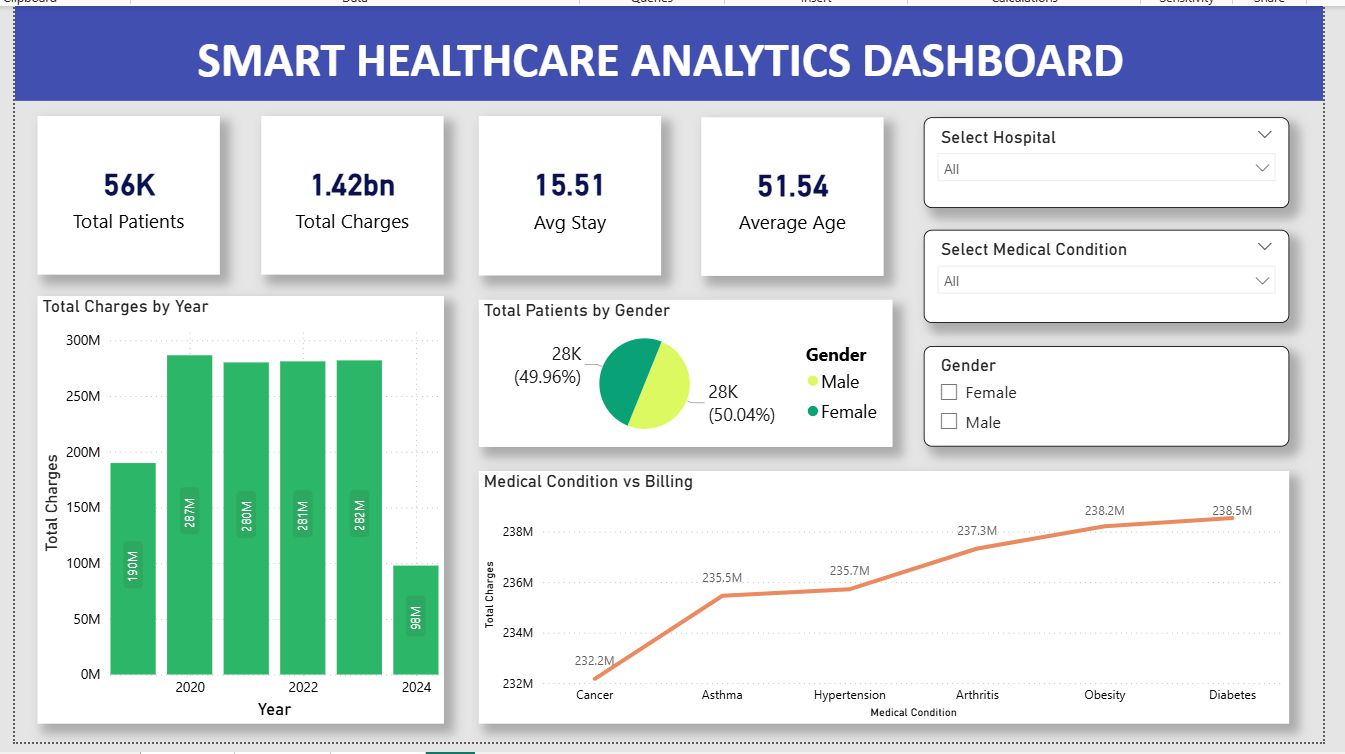

What the dashboard file says about the page in this screenshot:
{"tool":"powerbi","page":{"name":"Page 1","canvas":[1280,720],"ordinal":0},"visuals":[{"type":"textbox","box":[0,0,1280,92.9],"z":0},{"type":"card","fields":{"Values":["healthcare_dataset.Total Patients"]},"box":[22.5,107.5,178.8,155],"z":1000},{"type":"card","fields":{"Values":["healthcare_dataset.Total Charges"]},"box":[241.2,107.5,178.8,155],"z":2000},{"type":"card","fields":{"Values":["healthcare_dataset.Average Age"]},"box":[671.2,108.8,178.8,155],"z":3000},{"type":"card","fields":{"Values":["healthcare_dataset.Avg Stay"]},"box":[453.8,107.5,178.8,156.2],"z":4000},{"type":"lineChart","title":"Medical Condition vs Billing","fields":{"Category":["healthcare_dataset.Medical Condition"],"Y":["healthcare_dataset.Total Charges"]},"box":[453.8,455,792.5,247.5],"z":5000},{"type":"columnChart","title":"Total Charges by Year","fields":{"Category":["healthcare_dataset.Date of Admission.Variation.Date Hierarchy.Year"],"Y":["healthcare_dataset.Total Charges"]},"box":[22.5,283.8,397.5,418.8],"z":6000},{"type":"pieChart","fields":{"Category":["healthcare_dataset.Gender"],"Y":["healthcare_dataset.Total Patients"]},"box":[453.8,287.5,405,143.8],"z":7000},{"type":"slicer","fields":{"Values":["healthcare_dataset.Hospital"]},"box":[888.8,108.8,357.5,88.8],"z":8000},{"type":"slicer","fields":{"Values":["healthcare_dataset.Medical Condition"]},"box":[888.8,218.8,357.5,91.2],"z":9000},{"type":"slicer","fields":{"Values":["healthcare_dataset.Gender"]},"box":[888.8,332.5,357.5,98.8],"z":10000}]}

Visuals, with their boxes in screenshot pixels (x1, y1, x2, y2):
textbox: 7:0:1327:96
card - healthcare_dataset.Total Patients: 30:111:215:271
card - healthcare_dataset.Total Charges: 256:111:440:271
card - healthcare_dataset.Average Age: 699:112:884:272
card - healthcare_dataset.Avg Stay: 475:111:660:272
"Medical Condition vs Billing" lineChart: 475:469:1293:725
"Total Charges by Year" columnChart: 30:293:440:725
pieChart - healthcare_dataset.Gender x healthcare_dataset.Total Patients: 475:297:893:445
slicer - healthcare_dataset.Hospital: 924:112:1293:204
slicer - healthcare_dataset.Medical Condition: 924:226:1293:320
slicer - healthcare_dataset.Gender: 924:343:1293:445
